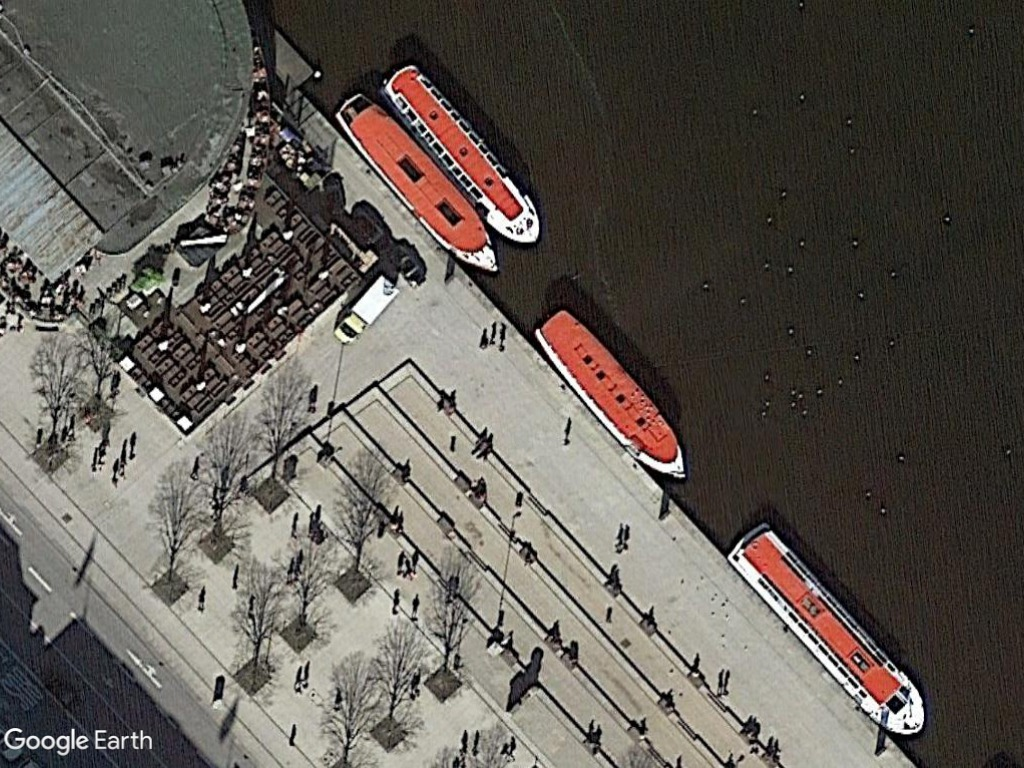boat: (717, 513, 931, 741), (378, 58, 546, 249), (334, 88, 501, 279), (533, 299, 694, 485)
truck: (332, 268, 401, 349)
